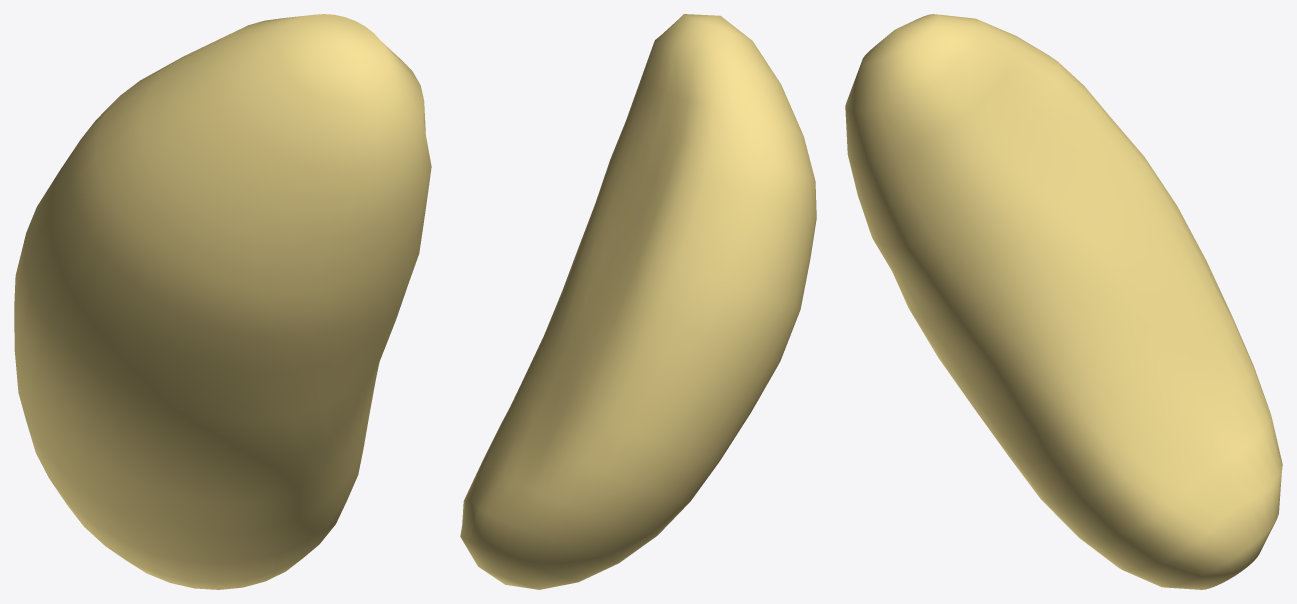
3 views of the same model, side by side, from view 1: azimuth 30°, elevation 25°; view 2: azimuth 150°, elevation 25°; view 3: azimuth 270°, elevation 25° (orthographic). The views are drawn at different scales.
Visible parts, largest first — view 1: ZA_aea30653d5b92106; view 2: ZA_aea30653d5b92106; view 3: ZA_aea30653d5b92106.
Part boxes in pixels (left/top/right/bottom): ZA_aea30653d5b92106: left=14, top=14, right=431, bottom=589; ZA_aea30653d5b92106: left=460, top=14, right=816, bottom=589; ZA_aea30653d5b92106: left=845, top=14, right=1282, bottom=589.
Size of the model in its own units: 0.00773 by 0.0139 by 0.0103.
